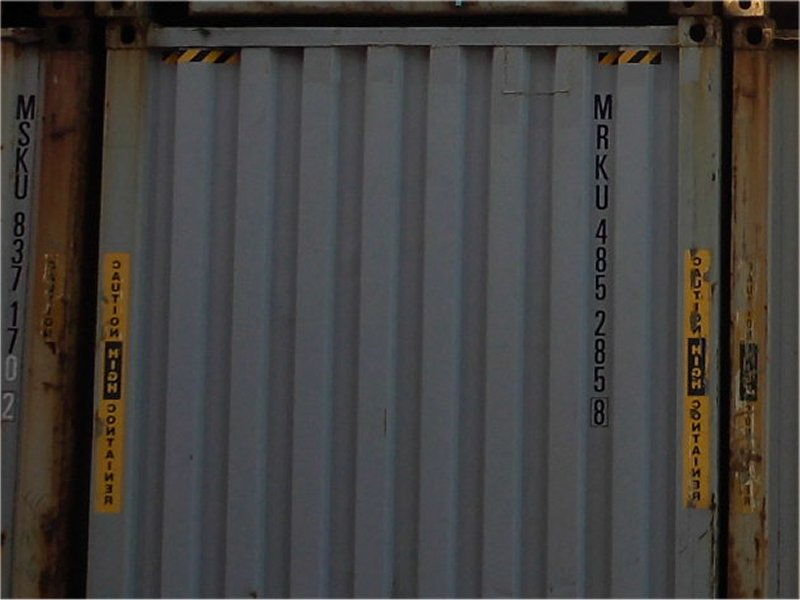container_no_door: (105, 16, 717, 594)
